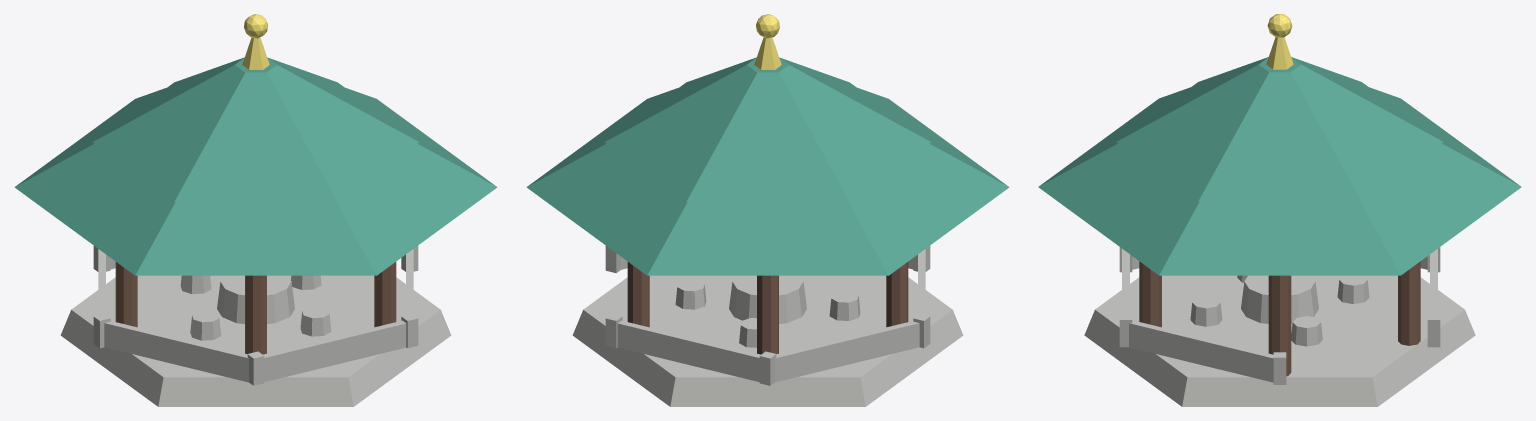
The model's file is vong-hai-dai.glb.
3 renders of one model, left to right at view 1: azimuth 30°, elevation 25°; view 2: azimuth 150°, elevation 25°; view 3: azimuth 270°, elevation 25°, orthographic.
Visible parts, largest first — view 1: vhd_roof, vhd_base, vhd_timber, vhd_gold; view 2: vhd_roof, vhd_base, vhd_timber, vhd_gold; view 3: vhd_roof, vhd_base, vhd_timber, vhd_gold.
Part boxes in pixels (x1,y1,x2,y2): vhd_roof: (14, 57, 497, 275); vhd_base: (60, 245, 451, 406); vhd_timber: (115, 262, 396, 354); vhd_gold: (242, 14, 269, 69); vhd_roof: (526, 57, 1009, 275); vhd_base: (572, 245, 963, 406); vhd_timber: (627, 262, 908, 354); vhd_gold: (754, 14, 781, 69); vhd_roof: (1038, 57, 1521, 275); vhd_base: (1084, 247, 1475, 406); vhd_timber: (1139, 261, 1420, 376); vhd_gold: (1266, 14, 1293, 69).
Bounding box in the file's own units: 11.78 × 9.95 × 13.6.
